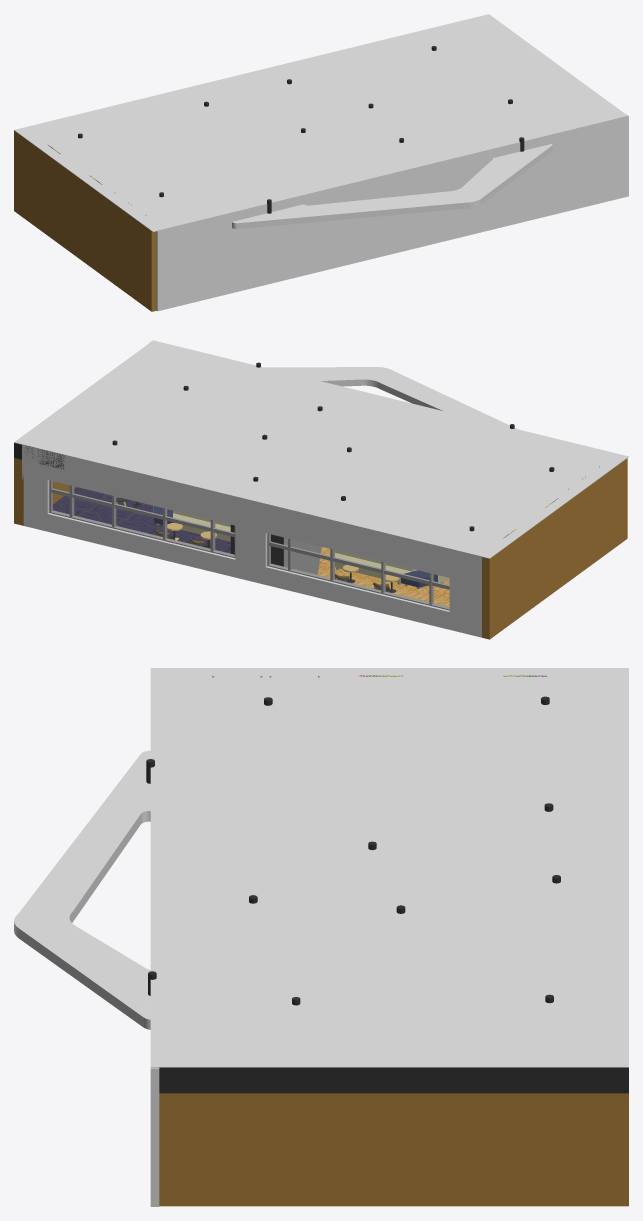
File: Stage 1 - FTIC Lounge Area.fbx
3 views of the same model, one above another, from view 1: azimuth 30°, elevation 25°; view 2: azimuth 150°, elevation 25°; view 3: azimuth 270°, elevation 25° (orthographic). The views are drawn at different scales.
Visible parts, largest first — view 1: FTIC_Roof, Front_Wall, FTIC_Left_Wall, FTIC_Ceiling_Decor; view 2: FTIC_Roof, FTIC_Back_Wall, FTIC_Left_Wall, FTIC_Floor, FTIC_Back_Window, FTIC_Ceiling_Decor, Main_Sofa_4 (×2), FTIC_Right_Wall; view 3: FTIC_Roof, FTIC_Right_Wall, FTIC_Ceiling_Decor, FTIC_Right_Roof, Front_Wall.
Part boxes in pixels (x1=…): FTIC_Roof: x1=14, y1=14, x2=627, y2=232; Front_Wall: x1=156, y1=114, x2=628, y2=311; FTIC_Left_Wall: x1=14, y1=131, x2=156, y2=311; FTIC_Ceiling_Decor: x1=232, y1=144, x2=552, y2=229; FTIC_Roof: x1=14, y1=340, x2=628, y2=558; FTIC_Back_Wall: x1=22, y1=445, x2=481, y2=637; FTIC_Left_Wall: x1=482, y1=458, x2=627, y2=639; FTIC_Floor: x1=53, y1=487, x2=449, y2=606; FTIC_Back_Window: x1=49, y1=485, x2=449, y2=610; FTIC_Ceiling_Decor: x1=264, y1=367, x2=517, y2=429; Main_Sofa_4 (×2): x1=173, y1=510, x2=417, y2=582; FTIC_Right_Wall: x1=14, y1=458, x2=76, y2=525; FTIC_Roof: x1=150, y1=668, x2=628, y2=1067; FTIC_Right_Wall: x1=159, y1=1093, x2=628, y2=1206; FTIC_Ceiling_Decor: x1=14, y1=750, x2=150, y2=1029; FTIC_Right_Roof: x1=159, y1=1067, x2=628, y2=1093; Front_Wall: x1=150, y1=1067, x2=159, y2=1206.
Bounding box in the file's own units: 220 × 38.1 × 143.
Materials: 25 (3 with a texture image).
